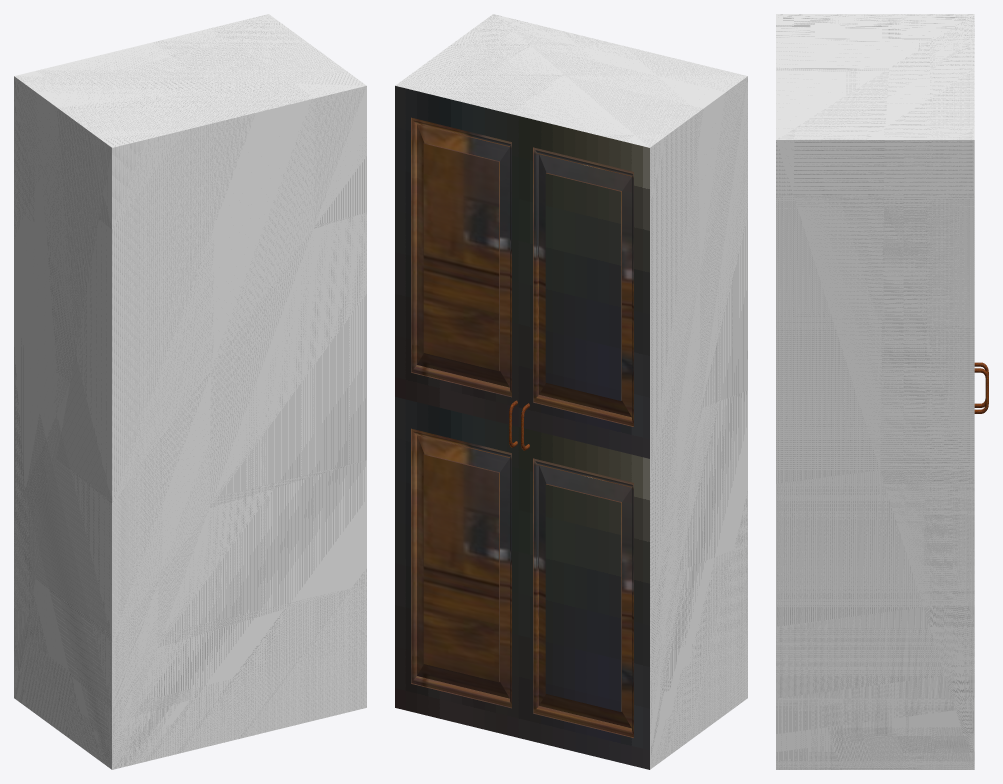
3 renders of one model, left to right at view 1: azimuth 30°, elevation 25°; view 2: azimuth 150°, elevation 25°; view 3: azimuth 270°, elevation 25°, orthographic.
Parts seen in each view (by area): view 1: mesh4_mesh4-geometry; view 2: mesh3_mesh3-geometry, mesh4_mesh4-geometry; view 3: mesh4_mesh4-geometry.
Boxes of the visible parts, x1=… form: mesh4_mesh4-geometry: x1=14, y1=14, x2=366, y2=769; mesh3_mesh3-geometry: x1=395, y1=86, x2=649, y2=769; mesh4_mesh4-geometry: x1=395, y1=14, x2=747, y2=769; mesh4_mesh4-geometry: x1=776, y1=14, x2=974, y2=769.
Bounding box in the file's own units: 0.3792 × 0.8848 × 0.2707.
